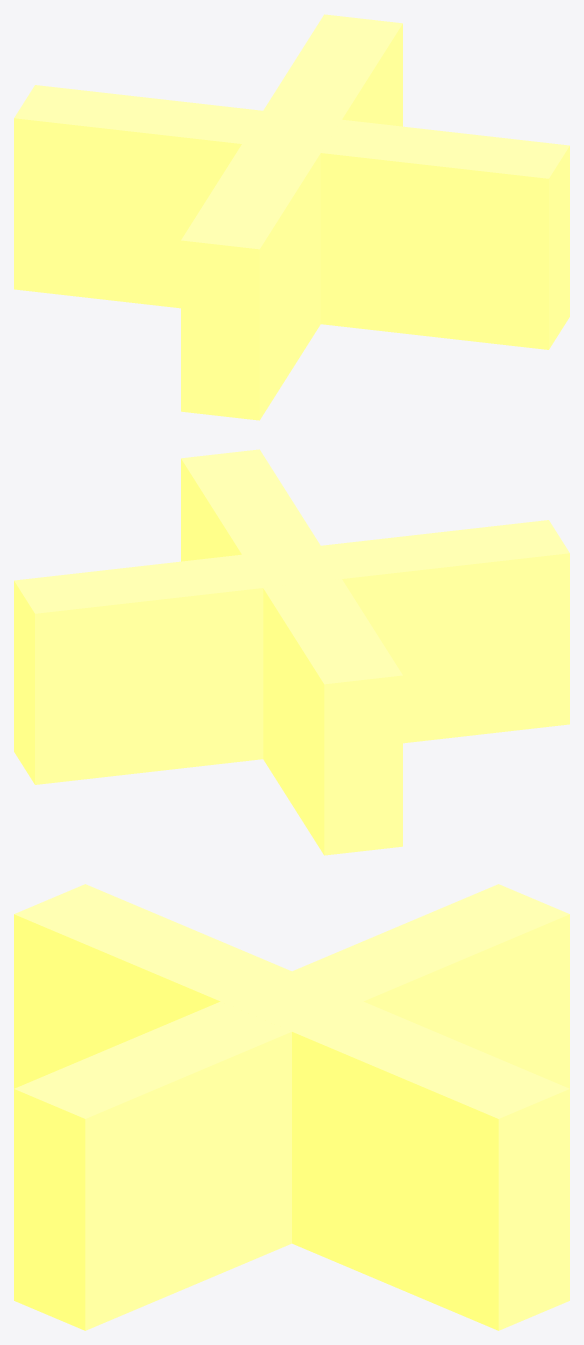
Rendered from Obstacle2.fbx.
3 renders of one model, top to bottom at view 1: azimuth 30°, elevation 25°; view 2: azimuth 150°, elevation 25°; view 3: azimuth 270°, elevation 25°, orthographic. The views are drawn at different scales.
Parts seen in each view (by area): view 1: Obstacle2; view 2: Obstacle2; view 3: Obstacle2.
Boxes of the visible parts, left/top/right/bottom form: Obstacle2: left=14, top=14, right=569, bottom=420; Obstacle2: left=14, top=449, right=569, bottom=855; Obstacle2: left=14, top=884, right=569, bottom=1330.
Size of the model in its own units: 20.47 by 8.61 by 20.47.
